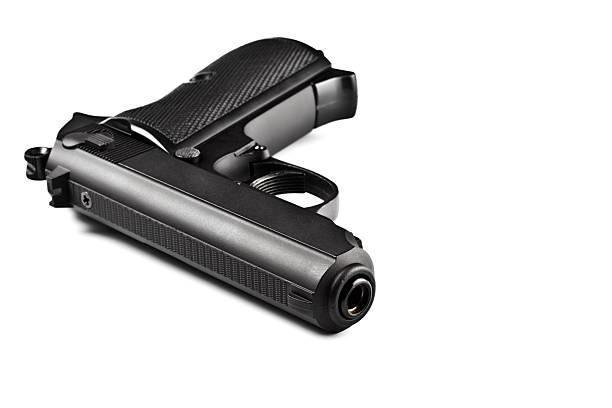weapon: (21, 29, 380, 335)
